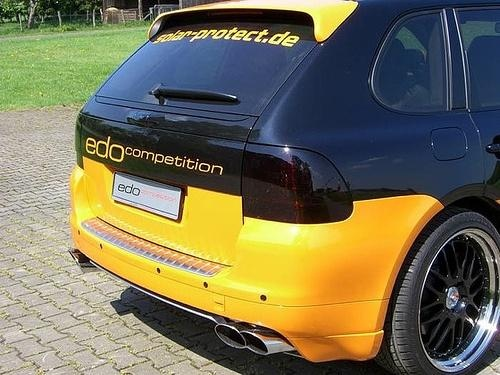car: (68, 1, 500, 373)
